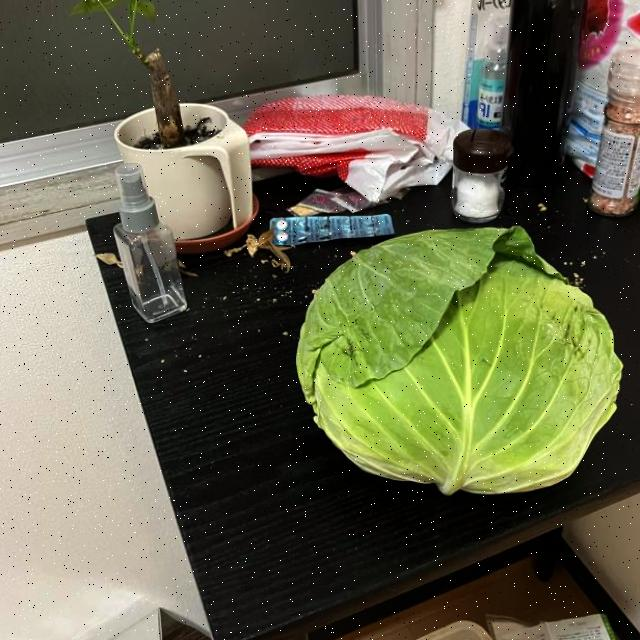cabbage: (292, 224, 630, 506)
